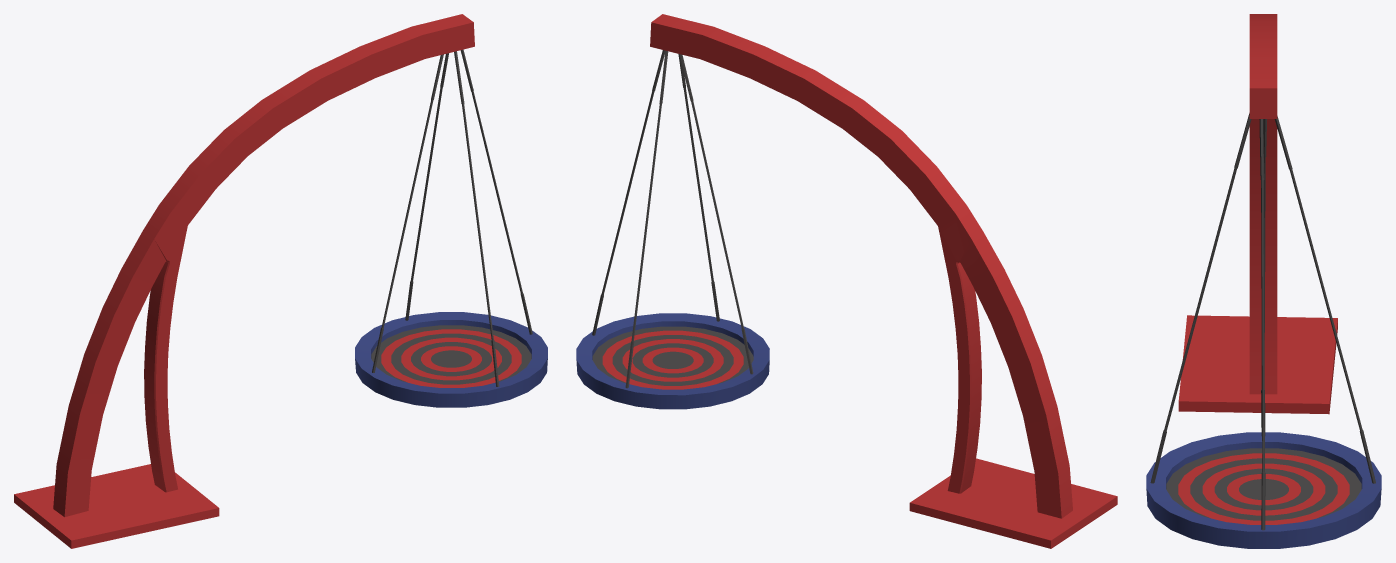
Rendered from Swingg.fbx.
3 views of the same model, side by side, from view 1: azimuth 30°, elevation 25°; view 2: azimuth 150°, elevation 25°; view 3: azimuth 270°, elevation 25° (orthographic). The views are drawn at different scales.
Visible parts, largest first — view 1: Swing; view 2: Swing; view 3: Swing.
Boxes of the visible parts, x1,y1,x2,y2 form: Swing: (14,14,547,548); Swing: (576,14,1117,548); Swing: (1146,14,1381,548).
Bounding box in the file's own units: 286 × 224 × 96.35.
